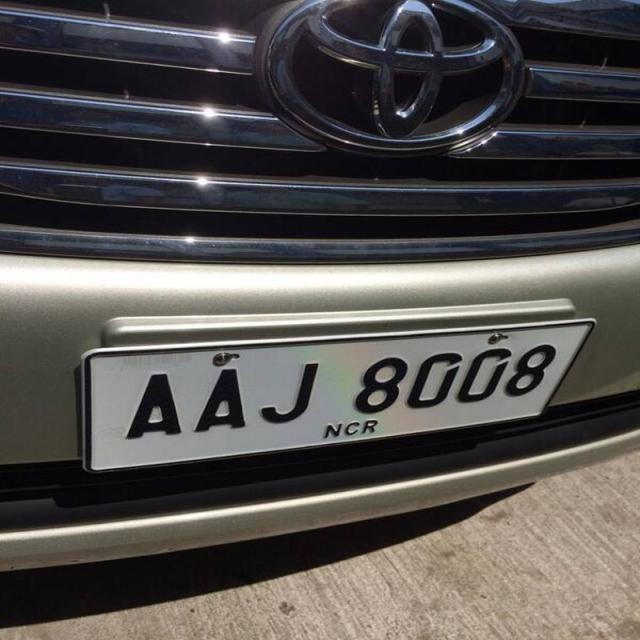number: (83, 319, 594, 471)
